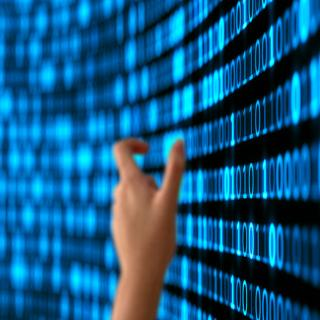Irritated: (97, 125, 194, 288)
